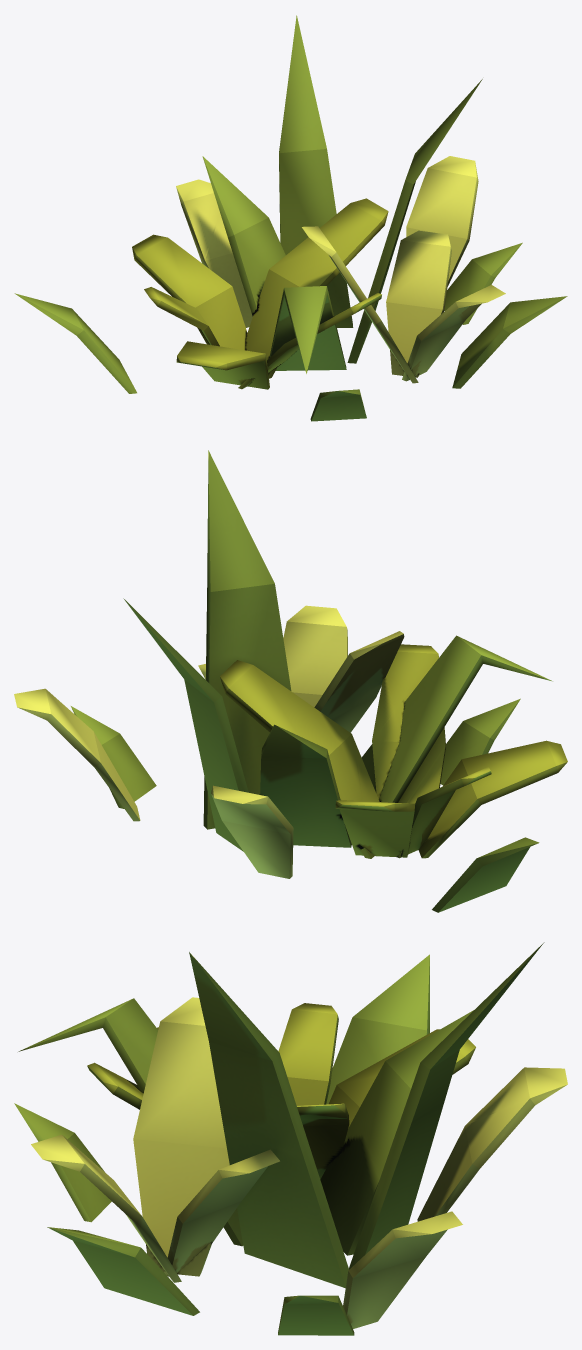
File: grass-tuft-2-toon.fbx
3 views of the same model, one above another, from view 1: azimuth 30°, elevation 25°; view 2: azimuth 150°, elevation 25°; view 3: azimuth 270°, elevation 25° (orthographic). The views are drawn at different scales.
Visible parts, largest first — view 1: grass; view 2: grass; view 3: grass.
Boxes of the visible parts, left/top/right/bottom form: grass: left=14, top=15, right=567, bottom=421; grass: left=14, top=450, right=567, bottom=912; grass: left=14, top=942, right=567, bottom=1335.
Bounding box in the file's own units: 182 × 103 × 139.
Materials: 1 (1 with a texture image).
